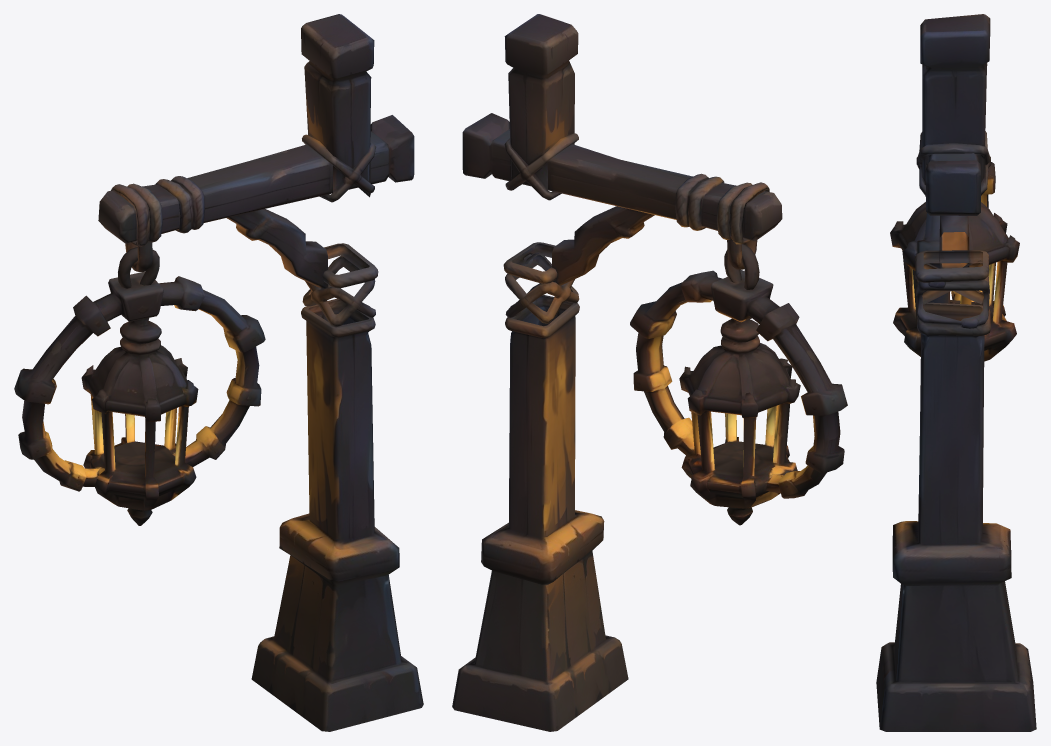
Rendered from tripo_convert_6c7673b8-c046-4719-9d00-63e0633402fe.fbx.
3 renders of one model, left to right at view 1: azimuth 30°, elevation 25°; view 2: azimuth 150°, elevation 25°; view 3: azimuth 270°, elevation 25°, orthographic. The views are drawn at different scales.
Visible parts, largest first — view 1: tripo_node_6c7673b8; view 2: tripo_node_6c7673b8; view 3: tripo_node_6c7673b8.
Boxes of the visible parts, <box> form: tripo_node_6c7673b8: <box>14,14,423,731</box>; tripo_node_6c7673b8: <box>452,14,847,731</box>; tripo_node_6c7673b8: <box>876,14,1036,731</box>.
Size of the model in its own units: 0.5972 by 0.9995 by 0.2124.
Materials: 1 (1 with a texture image).
